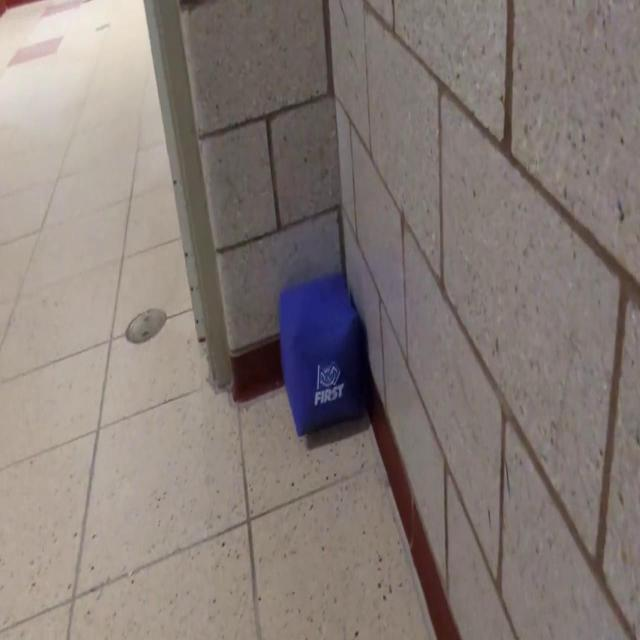frc_cube: (278, 276, 364, 438)
